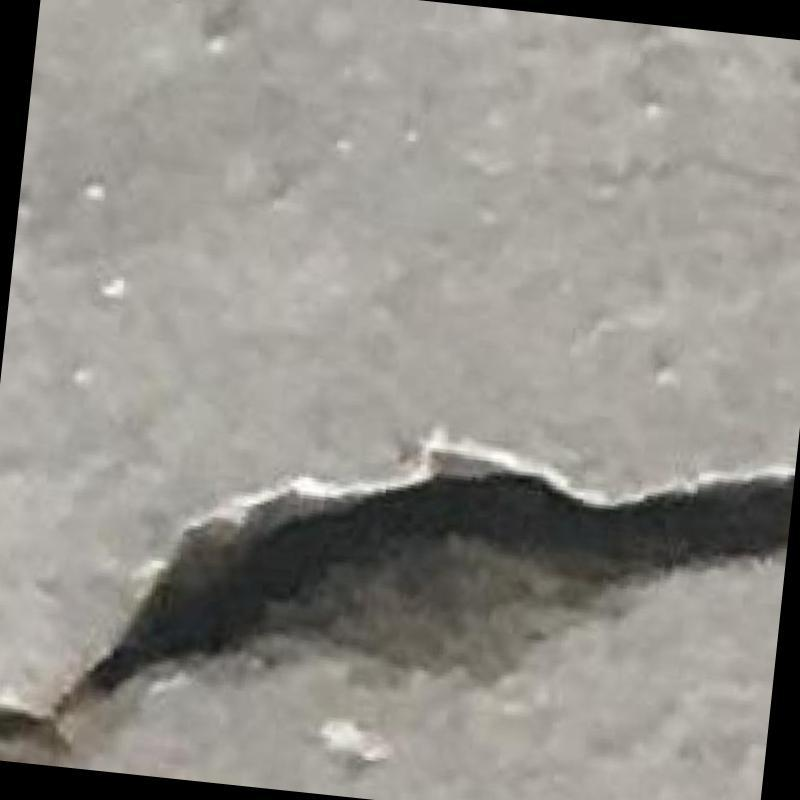crack: (0, 470, 793, 743)
